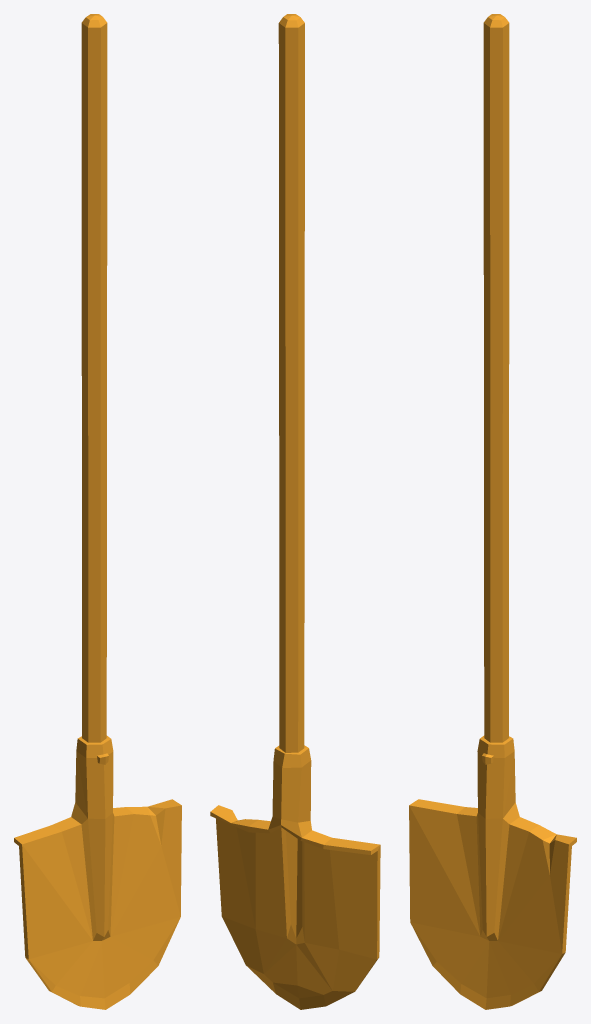
File: SM_Shovel_Farm_B.fbx
3 renders of one model, left to right at view 1: azimuth 30°, elevation 25°; view 2: azimuth 150°, elevation 25°; view 3: azimuth 330°, elevation 25°, orthographic.
Parts seen in each view (by area): view 1: shovel-farm-b; view 2: shovel-farm-b; view 3: shovel-farm-b.
Boxes of the visible parts, x1,y1,x2,y2 form: shovel-farm-b: (14, 14, 181, 1009); shovel-farm-b: (210, 14, 380, 1009); shovel-farm-b: (409, 14, 576, 1009).
Bounding box in the file's own units: 0.24 × 1.42 × 0.0574.
